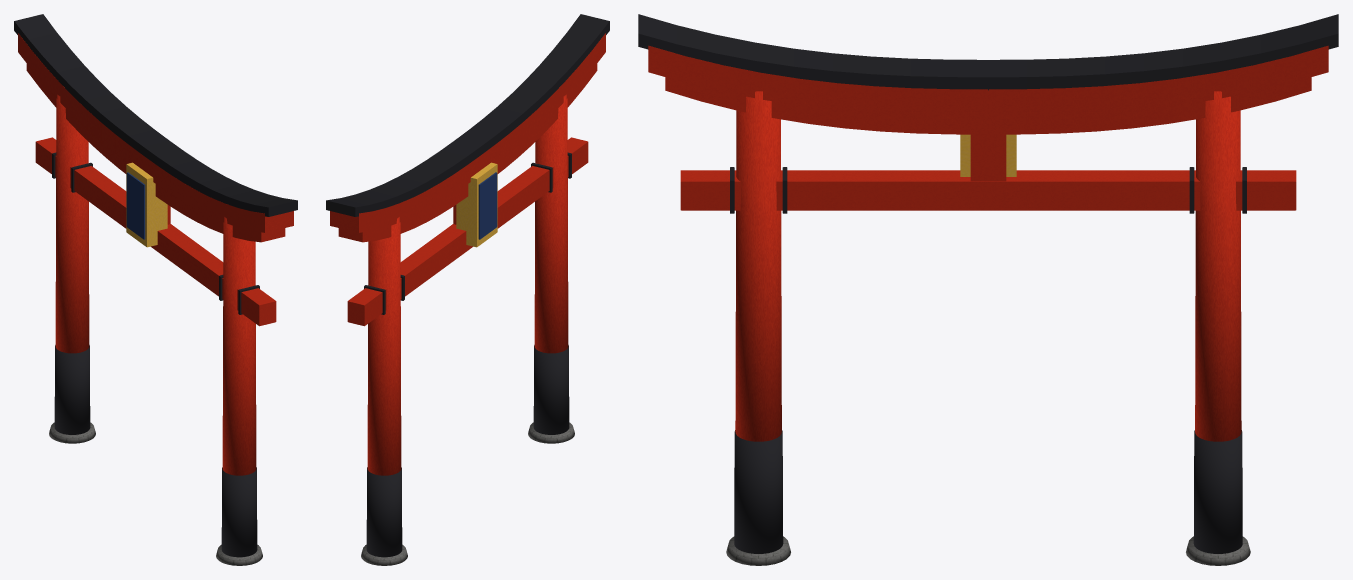
The model's file is Asset_01_Grand_Myojin_Torii.glb.
3 views of the same model, side by side, from view 1: azimuth 30°, elevation 25°; view 2: azimuth 150°, elevation 25°; view 3: azimuth 270°, elevation 25° (orthographic). The views are drawn at different scales.
Parts seen in each view (by area): view 1: Z01_Outer_Grand_Torii_Kasagi_BlackCap, Z01_Outer_Grand_Torii_Hashira_-1, Z01_Outer_Grand_Torii_Hashira_1, Z01_Outer_Grand_Torii_Nuki, Z01_Outer_Grand_Torii_Kasagi_Body, Z01_Outer_Grand_Torii_Nemaki_-1, Z01_Outer_Grand_Torii_Nemaki_1, Z01_Outer_Grand_Torii_Shimaki, Z01_Outer_Grand_Torii_Plaque_Frame, Z01_Outer_Grand_Torii_Plaque_Face, Z01_Outer_Grand_Torii_StoneBase_1, Z01_Outer_Grand_Torii_StoneBase_-1; view 2: Z01_Outer_Grand_Torii_Kasagi_BlackCap, Z01_Outer_Grand_Torii_Hashira_1, Z01_Outer_Grand_Torii_Hashira_-1, Z01_Outer_Grand_Torii_Nuki, Z01_Outer_Grand_Torii_Kasagi_Body, Z01_Outer_Grand_Torii_Nemaki_1, Z01_Outer_Grand_Torii_Nemaki_-1, Z01_Outer_Grand_Torii_Shimaki, Z01_Outer_Grand_Torii_Plaque_Frame, Z01_Outer_Grand_Torii_Plaque_Face, Z01_Outer_Grand_Torii_StoneBase_-1, Z01_Outer_Grand_Torii_StoneBase_1; view 3: Z01_Outer_Grand_Torii_Kasagi_BlackCap, Z01_Outer_Grand_Torii_Nuki, Z01_Outer_Grand_Torii_Kasagi_Body, Z01_Outer_Grand_Torii_Hashira_1, Z01_Outer_Grand_Torii_Hashira_-1, Z01_Outer_Grand_Torii_Shimaki, Z01_Outer_Grand_Torii_Nemaki_1, Z01_Outer_Grand_Torii_Nemaki_-1, Z01_Outer_Grand_Torii_Gakuzuka, Z01_Outer_Grand_Torii_StoneBase_1, Z01_Outer_Grand_Torii_StoneBase_-1, Z01_Outer_Grand_Torii_Plaque_Frame.
Part boxes in pixels (box(x1,y1,x2,y2)): Z01_Outer_Grand_Torii_Kasagi_BlackCap: box(14, 14, 297, 216); Z01_Outer_Grand_Torii_Hashira_-1: box(222, 217, 256, 475); Z01_Outer_Grand_Torii_Hashira_1: box(55, 94, 89, 353); Z01_Outer_Grand_Torii_Nuki: box(35, 137, 276, 326); Z01_Outer_Grand_Torii_Kasagi_Body: box(18, 33, 293, 232); Z01_Outer_Grand_Torii_Nemaki_-1: box(221, 467, 257, 557); Z01_Outer_Grand_Torii_Nemaki_1: box(54, 345, 90, 434); Z01_Outer_Grand_Torii_Shimaki: box(26, 63, 285, 242); Z01_Outer_Grand_Torii_Plaque_Frame: box(126, 162, 167, 247); Z01_Outer_Grand_Torii_Plaque_Face: box(126, 172, 145, 239); Z01_Outer_Grand_Torii_StoneBase_1: box(49, 422, 95, 443); Z01_Outer_Grand_Torii_StoneBase_-1: box(216, 544, 262, 565); Z01_Outer_Grand_Torii_Kasagi_BlackCap: box(326, 14, 609, 216); Z01_Outer_Grand_Torii_Hashira_1: box(367, 217, 401, 475); Z01_Outer_Grand_Torii_Hashira_-1: box(534, 94, 568, 353); Z01_Outer_Grand_Torii_Nuki: box(347, 137, 588, 326); Z01_Outer_Grand_Torii_Kasagi_Body: box(330, 33, 605, 232); Z01_Outer_Grand_Torii_Nemaki_1: box(366, 467, 402, 557); Z01_Outer_Grand_Torii_Nemaki_-1: box(533, 345, 569, 434); Z01_Outer_Grand_Torii_Shimaki: box(338, 63, 597, 242); Z01_Outer_Grand_Torii_Plaque_Frame: box(456, 162, 497, 247); Z01_Outer_Grand_Torii_Plaque_Face: box(478, 172, 497, 239); Z01_Outer_Grand_Torii_StoneBase_-1: box(528, 422, 574, 443); Z01_Outer_Grand_Torii_StoneBase_1: box(361, 544, 407, 565); Z01_Outer_Grand_Torii_Kasagi_BlackCap: box(638, 14, 1338, 90); Z01_Outer_Grand_Torii_Nuki: box(680, 170, 1296, 210); Z01_Outer_Grand_Torii_Kasagi_Body: box(648, 45, 1328, 115); Z01_Outer_Grand_Torii_Hashira_1: box(1195, 91, 1241, 441); Z01_Outer_Grand_Torii_Hashira_-1: box(735, 91, 781, 441); Z01_Outer_Grand_Torii_Shimaki: box(665, 77, 1311, 134); Z01_Outer_Grand_Torii_Nemaki_1: box(1193, 430, 1242, 553); Z01_Outer_Grand_Torii_Nemaki_-1: box(734, 430, 783, 553); Z01_Outer_Grand_Torii_Gakuzuka: box(970, 134, 1006, 181); Z01_Outer_Grand_Torii_StoneBase_1: box(1186, 536, 1250, 565); Z01_Outer_Grand_Torii_StoneBase_-1: box(726, 536, 790, 565); Z01_Outer_Grand_Torii_Plaque_Frame: box(960, 134, 1016, 176).
Bounding box in the file's own units: 1.11 × 9.9 × 11.89.
5 materials, 3 textured.
